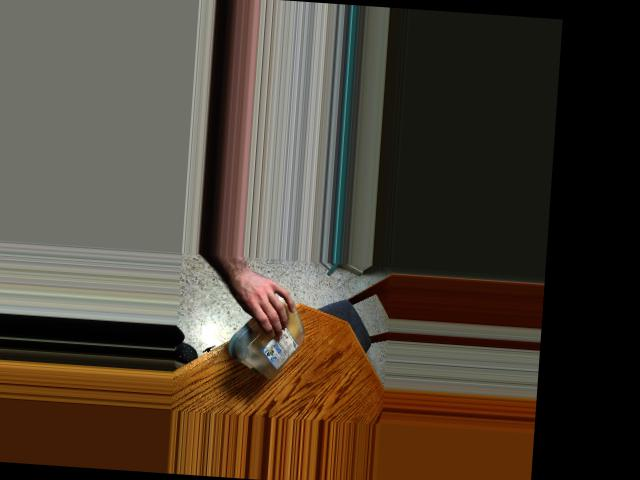cheese: (229, 283, 310, 382)
